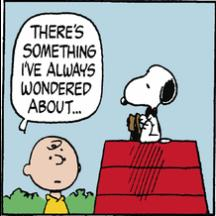charlie: (22, 136, 80, 216)
snoopy: (119, 64, 177, 144)
